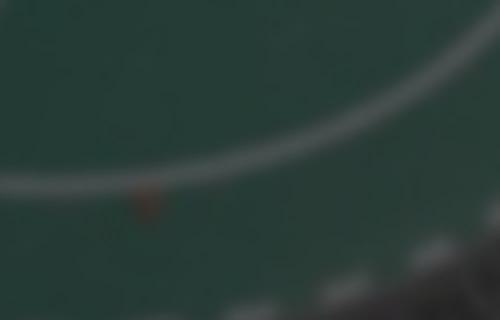Apron: (1, 1, 500, 200)
